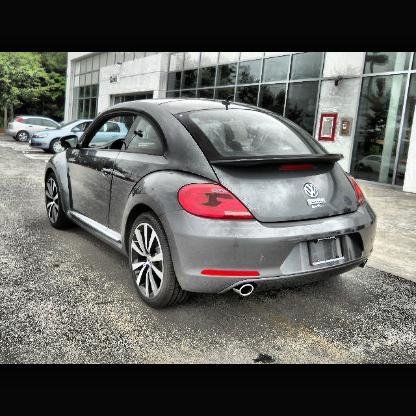Volkswagen Beetle Hatchback 2012: (47, 95, 377, 310)
